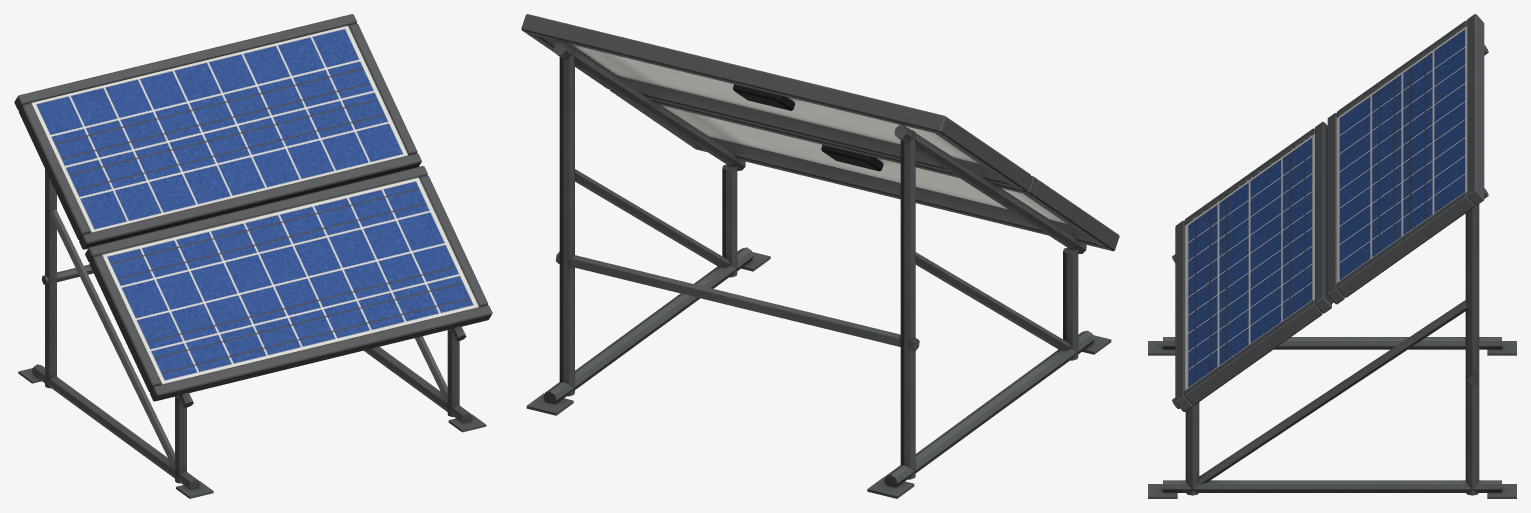
The model's file is RenewableEnergy_SolarRack.fbx.
The picture shows the model from 3 angles, left to right: view 1: azimuth 30°, elevation 25°; view 2: azimuth 150°, elevation 25°; view 3: azimuth 270°, elevation 25°; orthographic projection. The views are drawn at different scales.
Parts seen in each view (by area): view 1: SolarRack; view 2: SolarRack; view 3: SolarRack.
Part boxes in pixels (box(x1,y1,x2,y2)): SolarRack: box(14, 14, 492, 498); SolarRack: box(521, 14, 1119, 498); SolarRack: box(1148, 14, 1516, 498).
Bounding box in the file's own units: 0.986 × 0.8318 × 0.8708.
